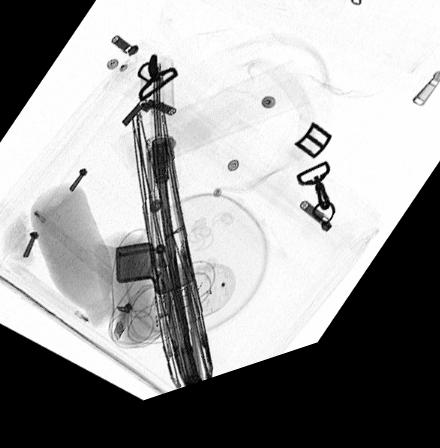Lighter: (114, 252, 192, 306)
